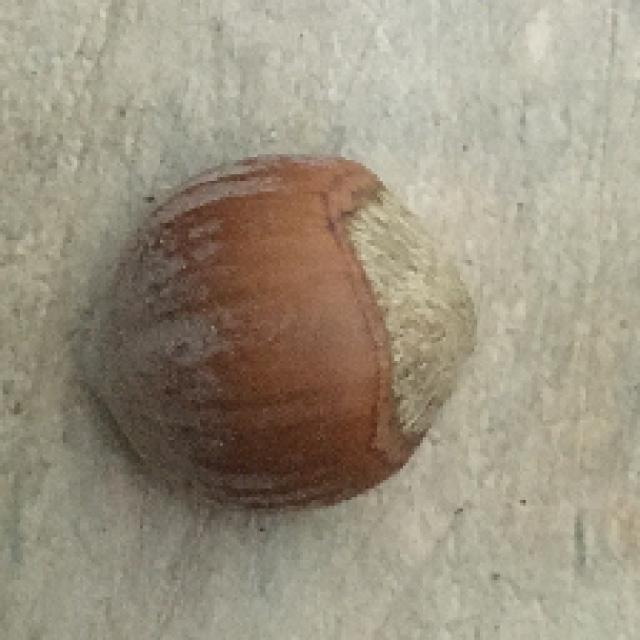qualityHazelnut: (79, 140, 487, 521)
